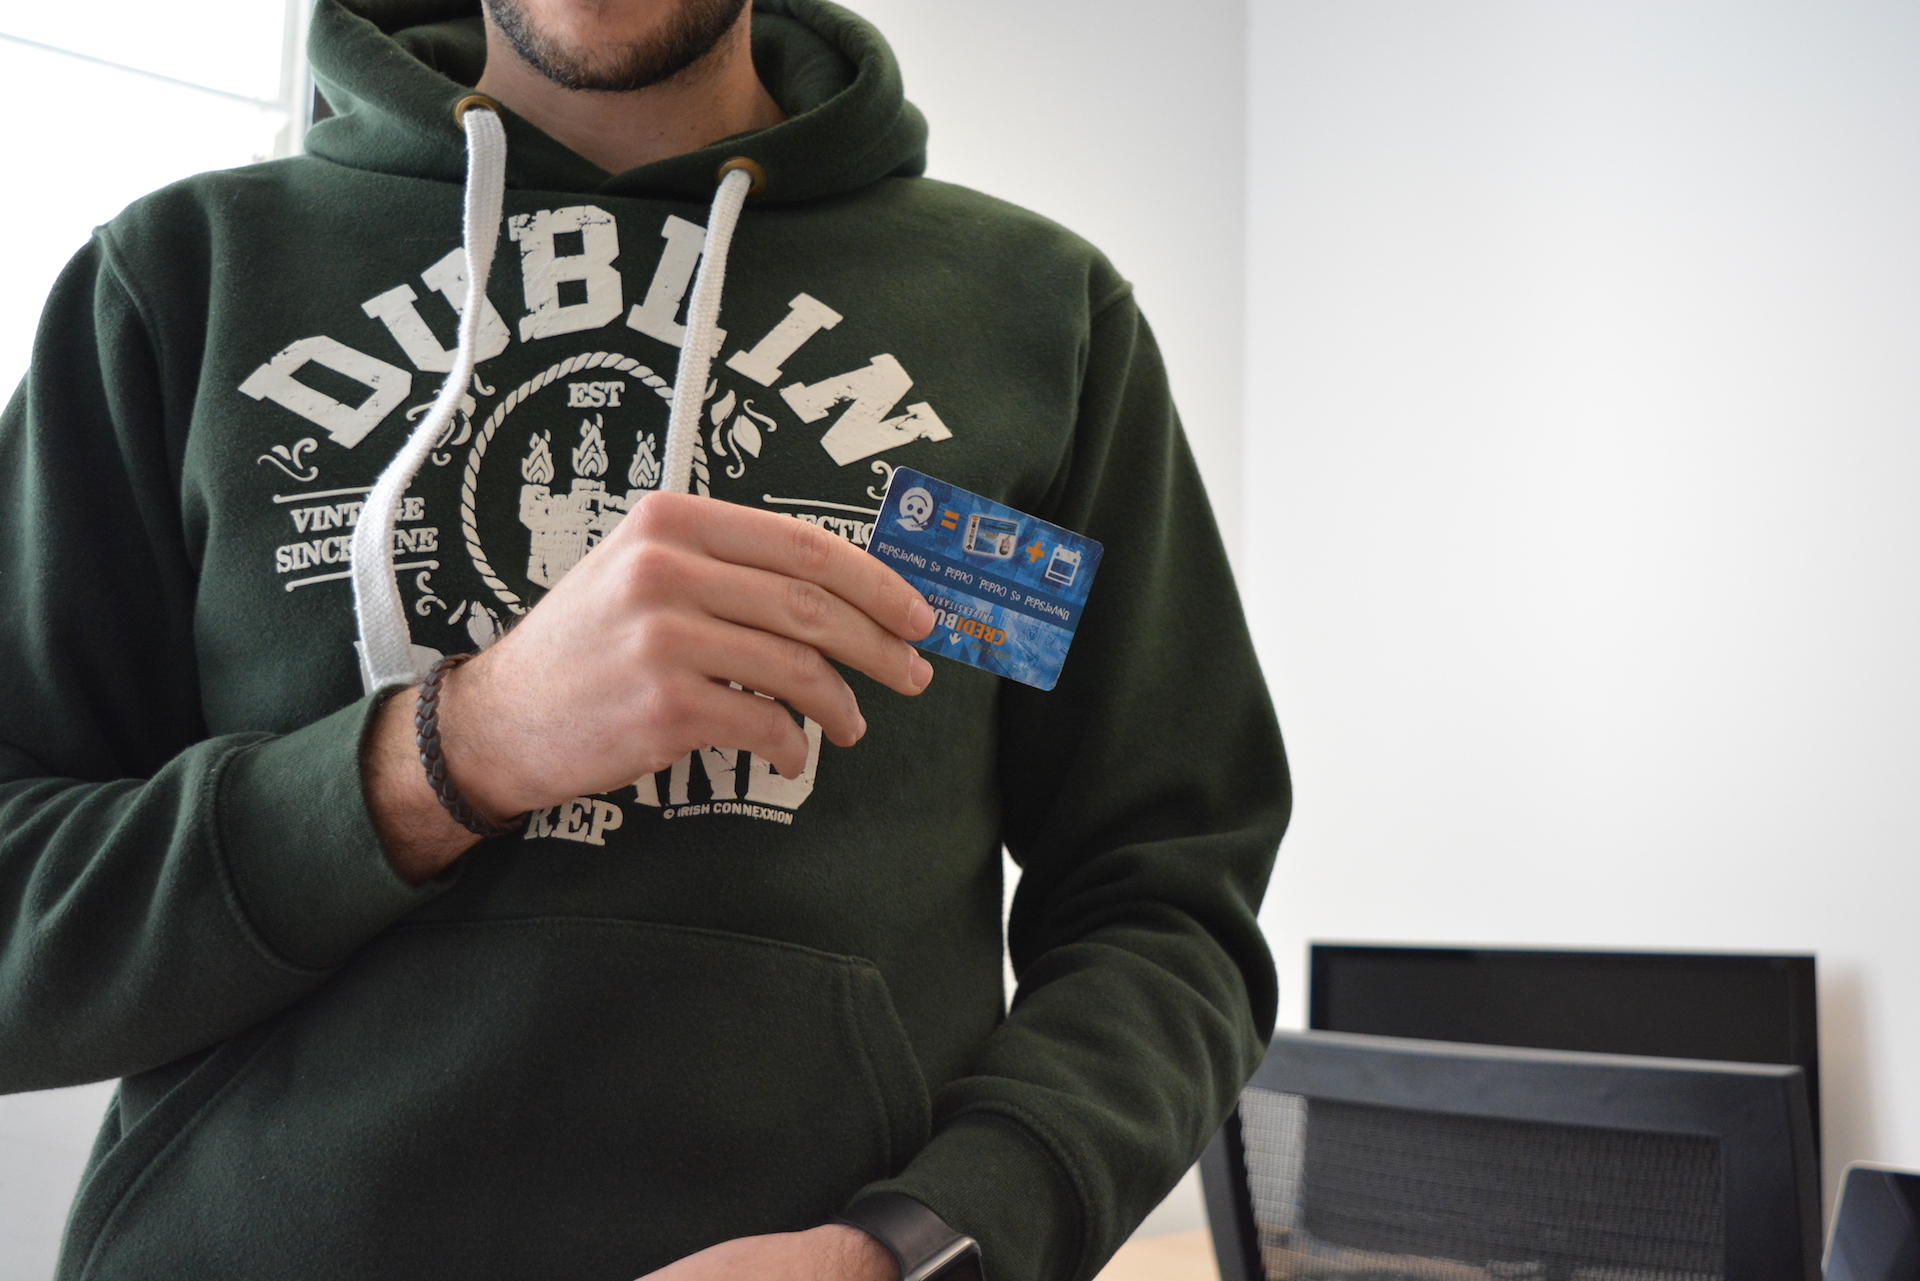tarjeta: (863, 463, 1107, 693)
